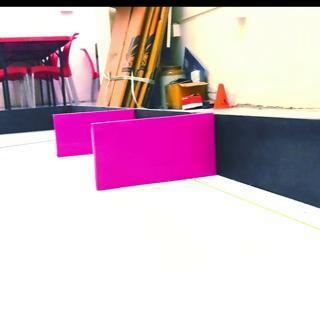xparking: (94, 122, 214, 182), (54, 111, 90, 155)
